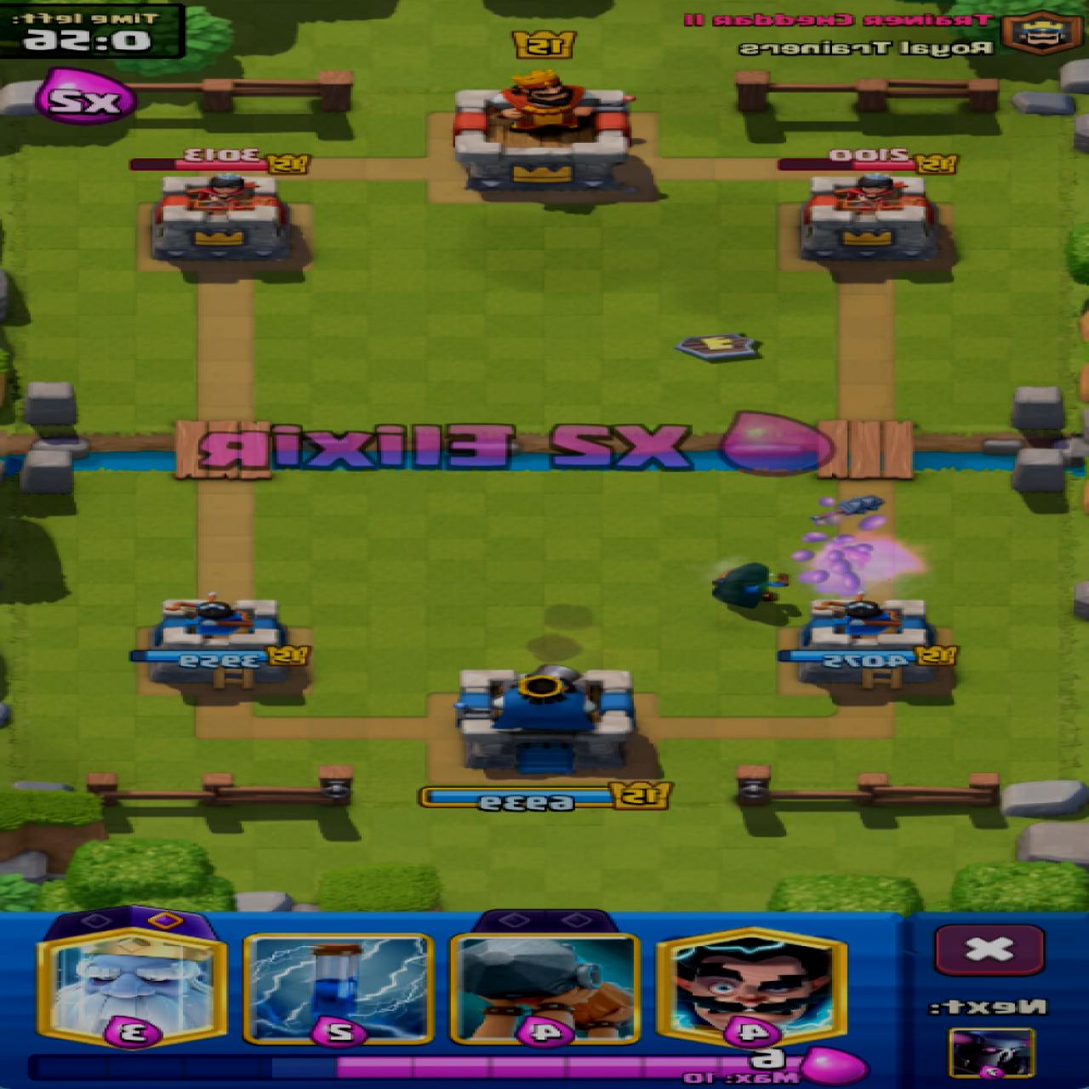Enemy-KingTower: (455, 70, 629, 192)
Enemy-PrincessTower: (155, 172, 290, 262), (802, 173, 939, 260)
